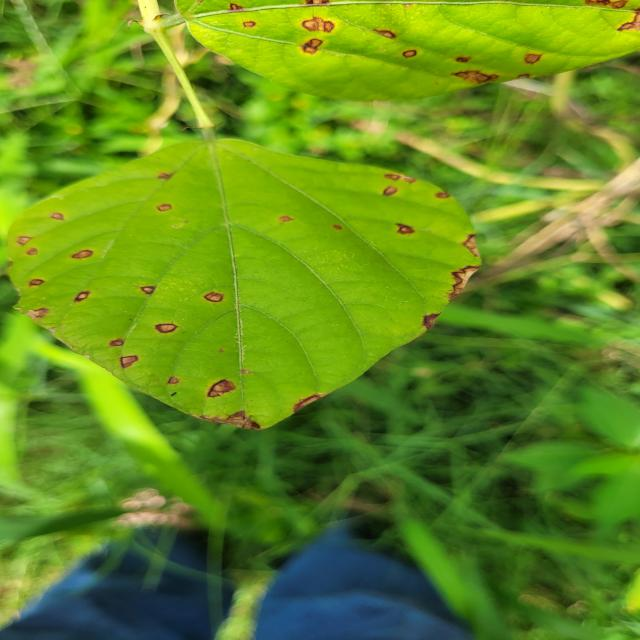Dolicos bean_cercospora leaf spot: (0, 128, 483, 432), (175, 0, 640, 110)
